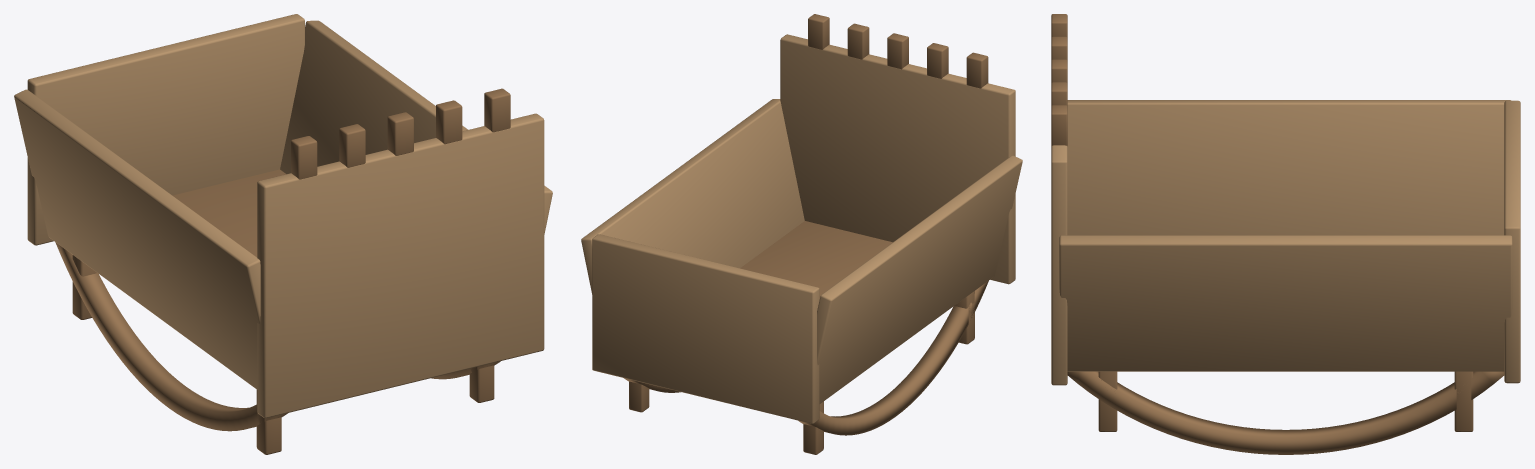
The model's file is Wiege.glb.
3 renders of one model, left to right at view 1: azimuth 30°, elevation 25°; view 2: azimuth 150°, elevation 25°; view 3: azimuth 270°, elevation 25°, orthographic. The views are drawn at different scales.
Visible parts, largest first — view 1: Wiege; view 2: Wiege; view 3: Wiege.
Boxes of the visible parts, x1,y1,x2,y2 form: Wiege: (14, 14, 552, 454); Wiege: (581, 14, 1022, 454); Wiege: (1051, 14, 1520, 454).
Bounding box in the file's own units: 0.633 × 0.69 × 0.87.
